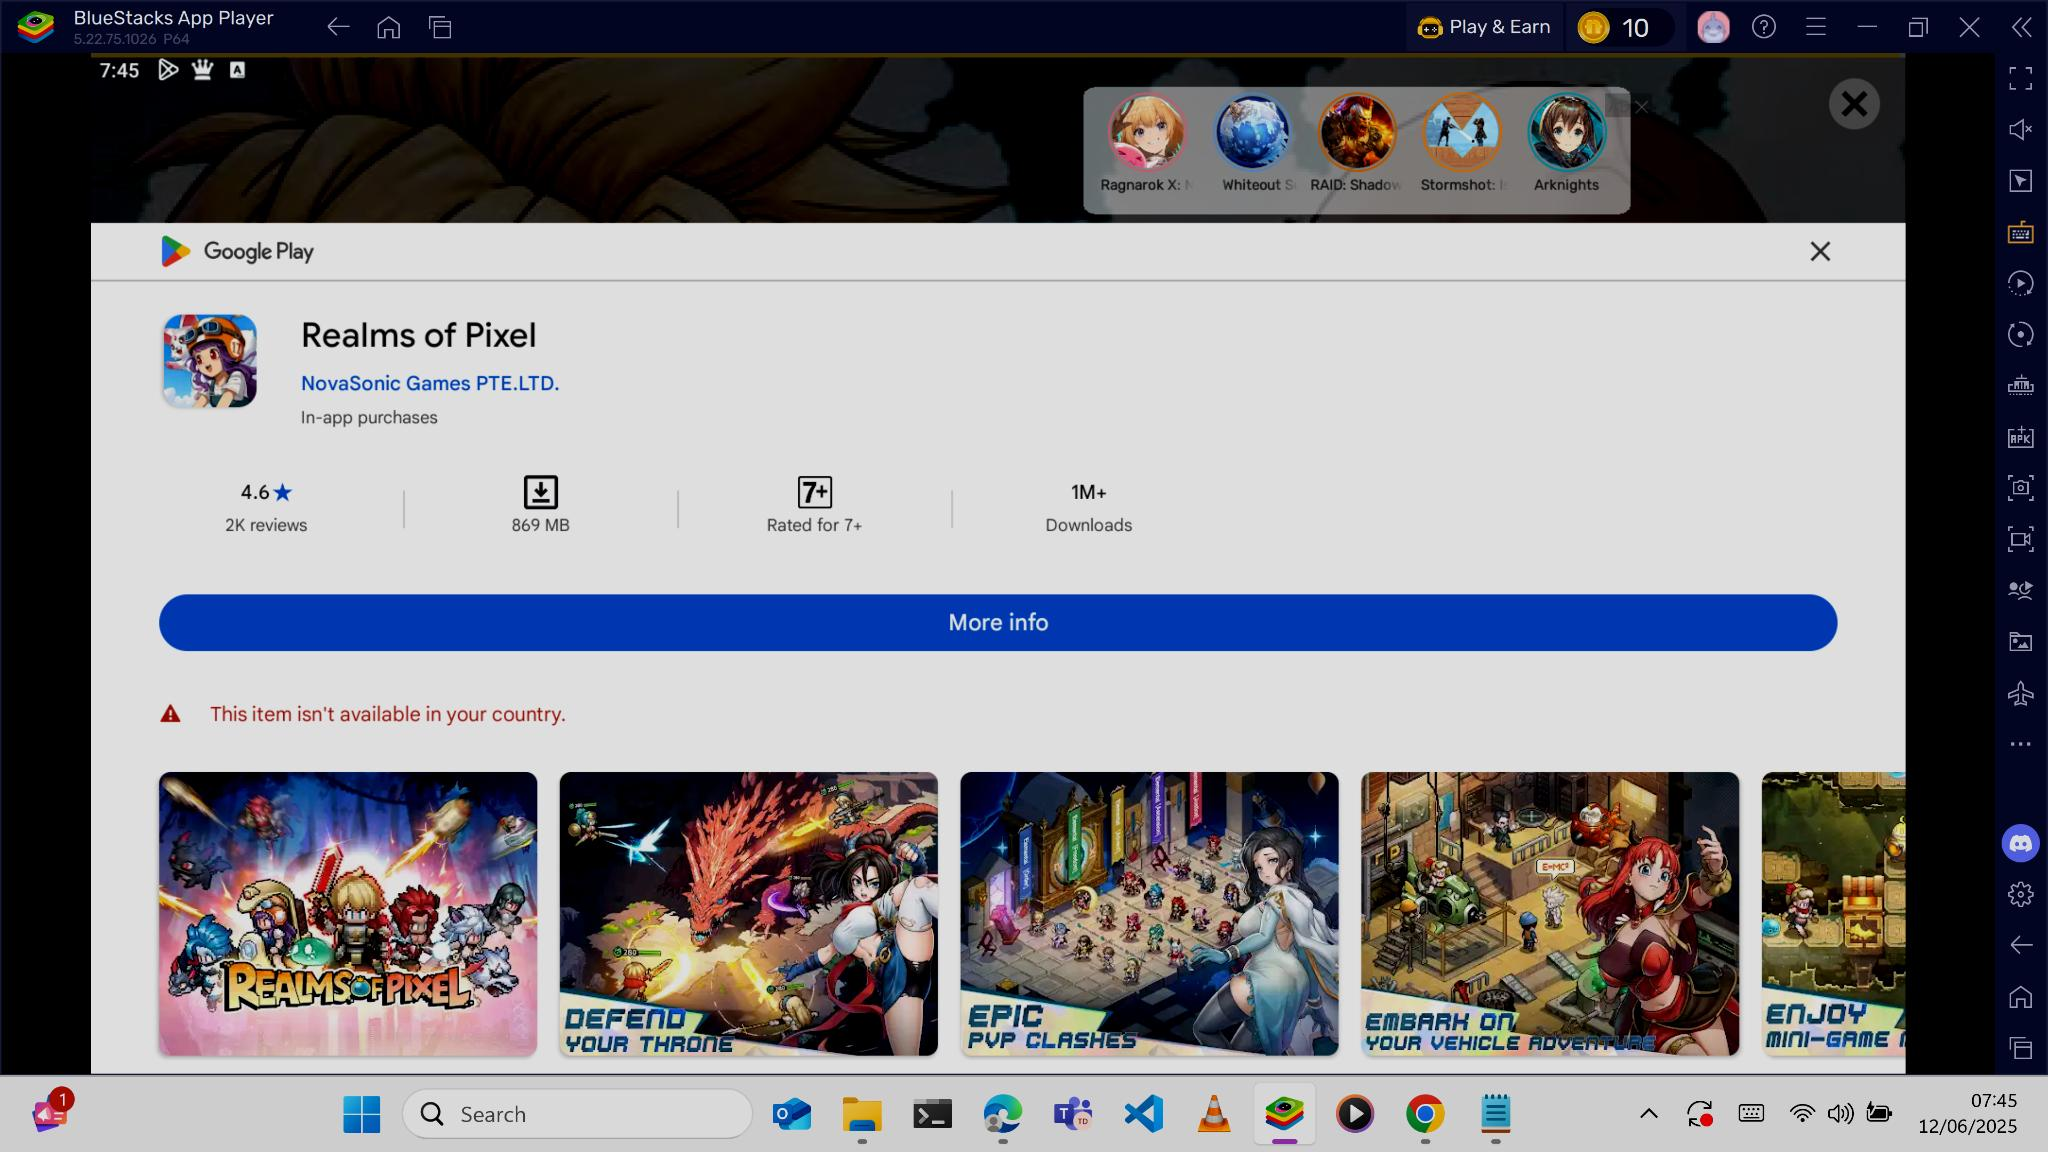close_ad: (1809, 241, 1831, 262)
